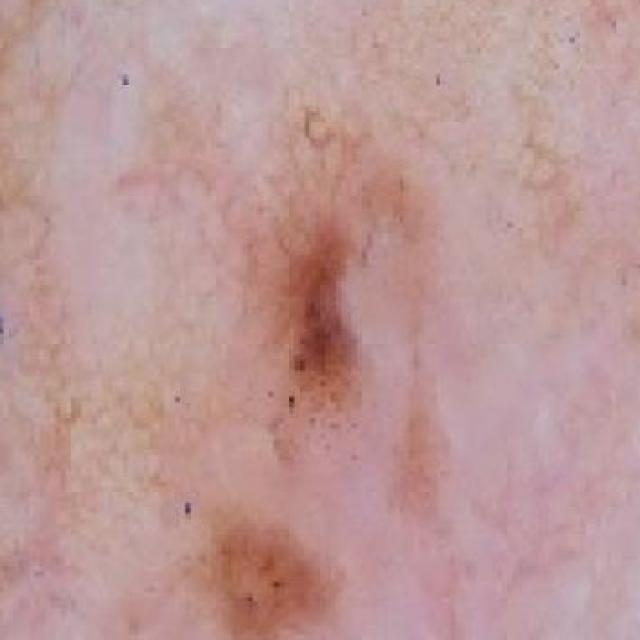BCC: (180, 13, 640, 640)
